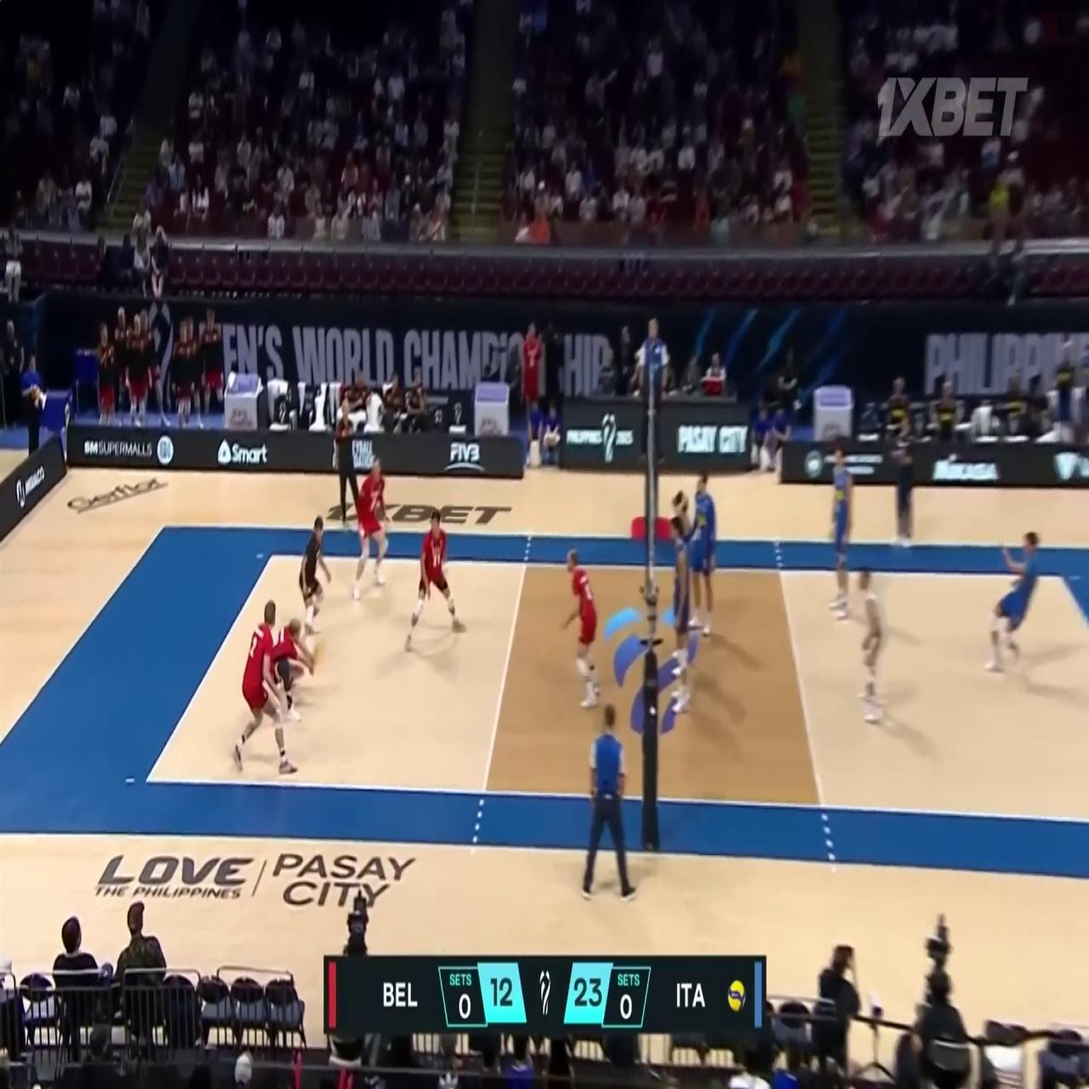ball: (313, 640, 325, 665)
